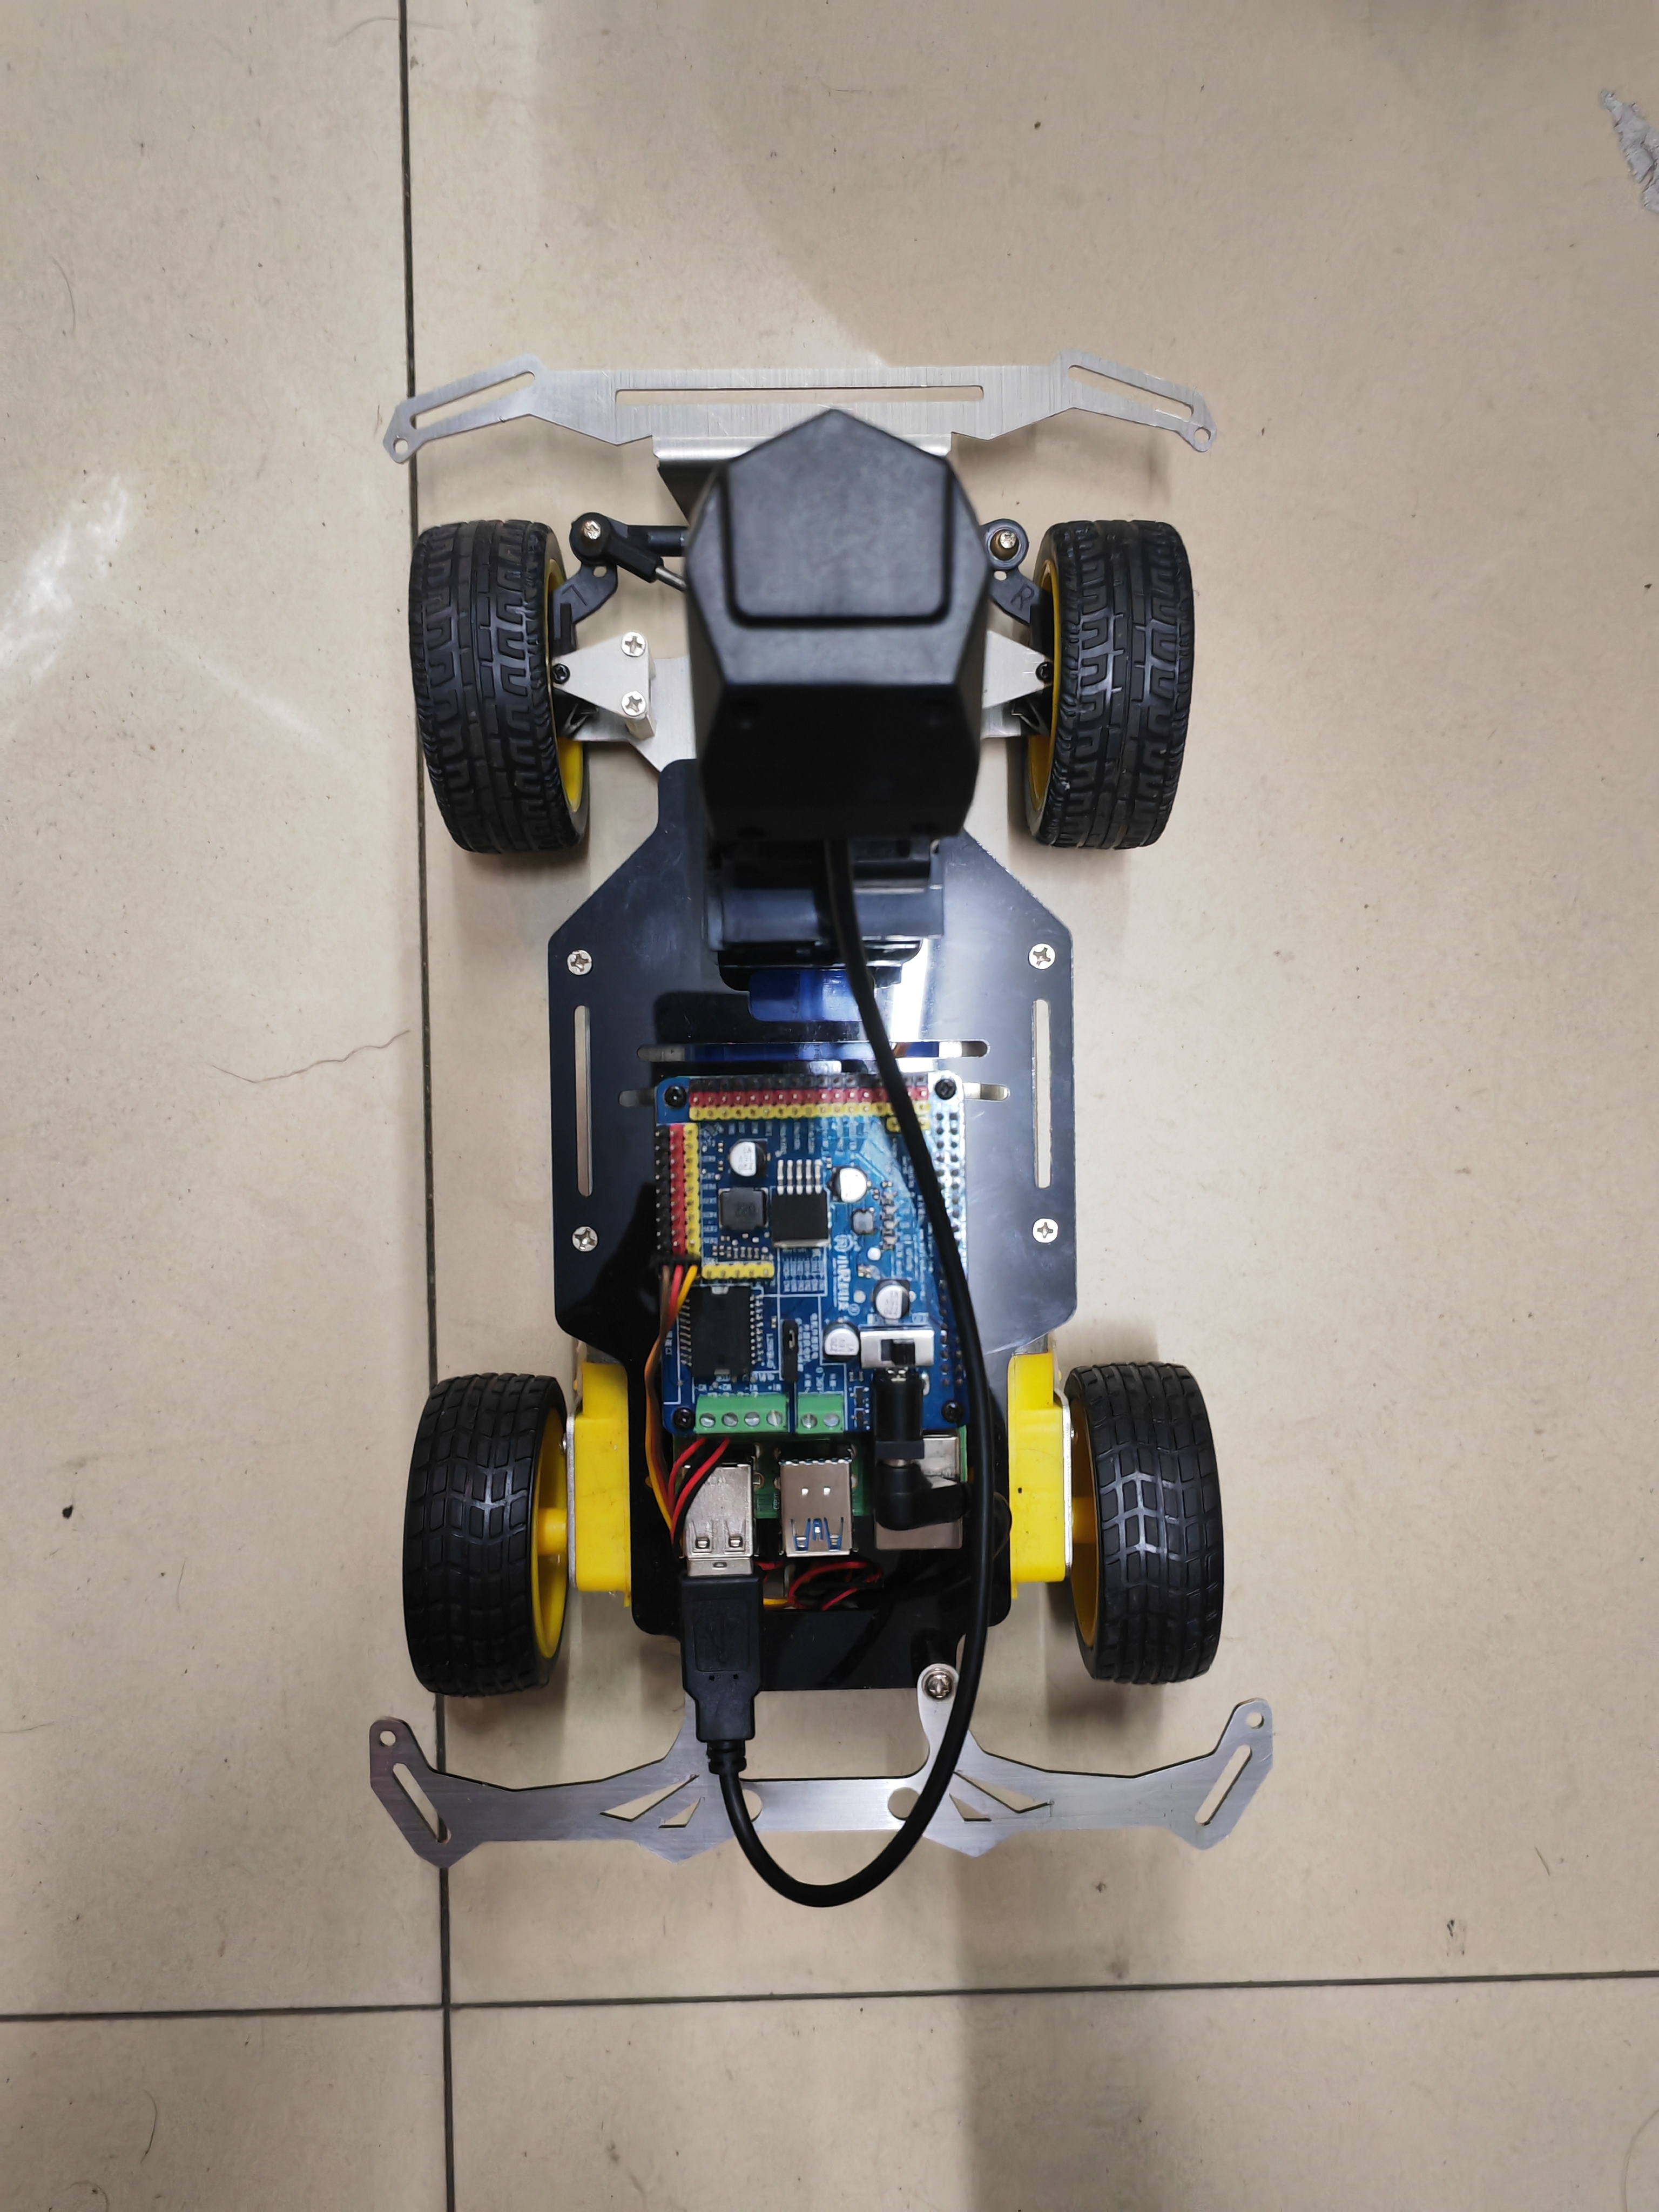car: (333, 357, 1288, 1890)
